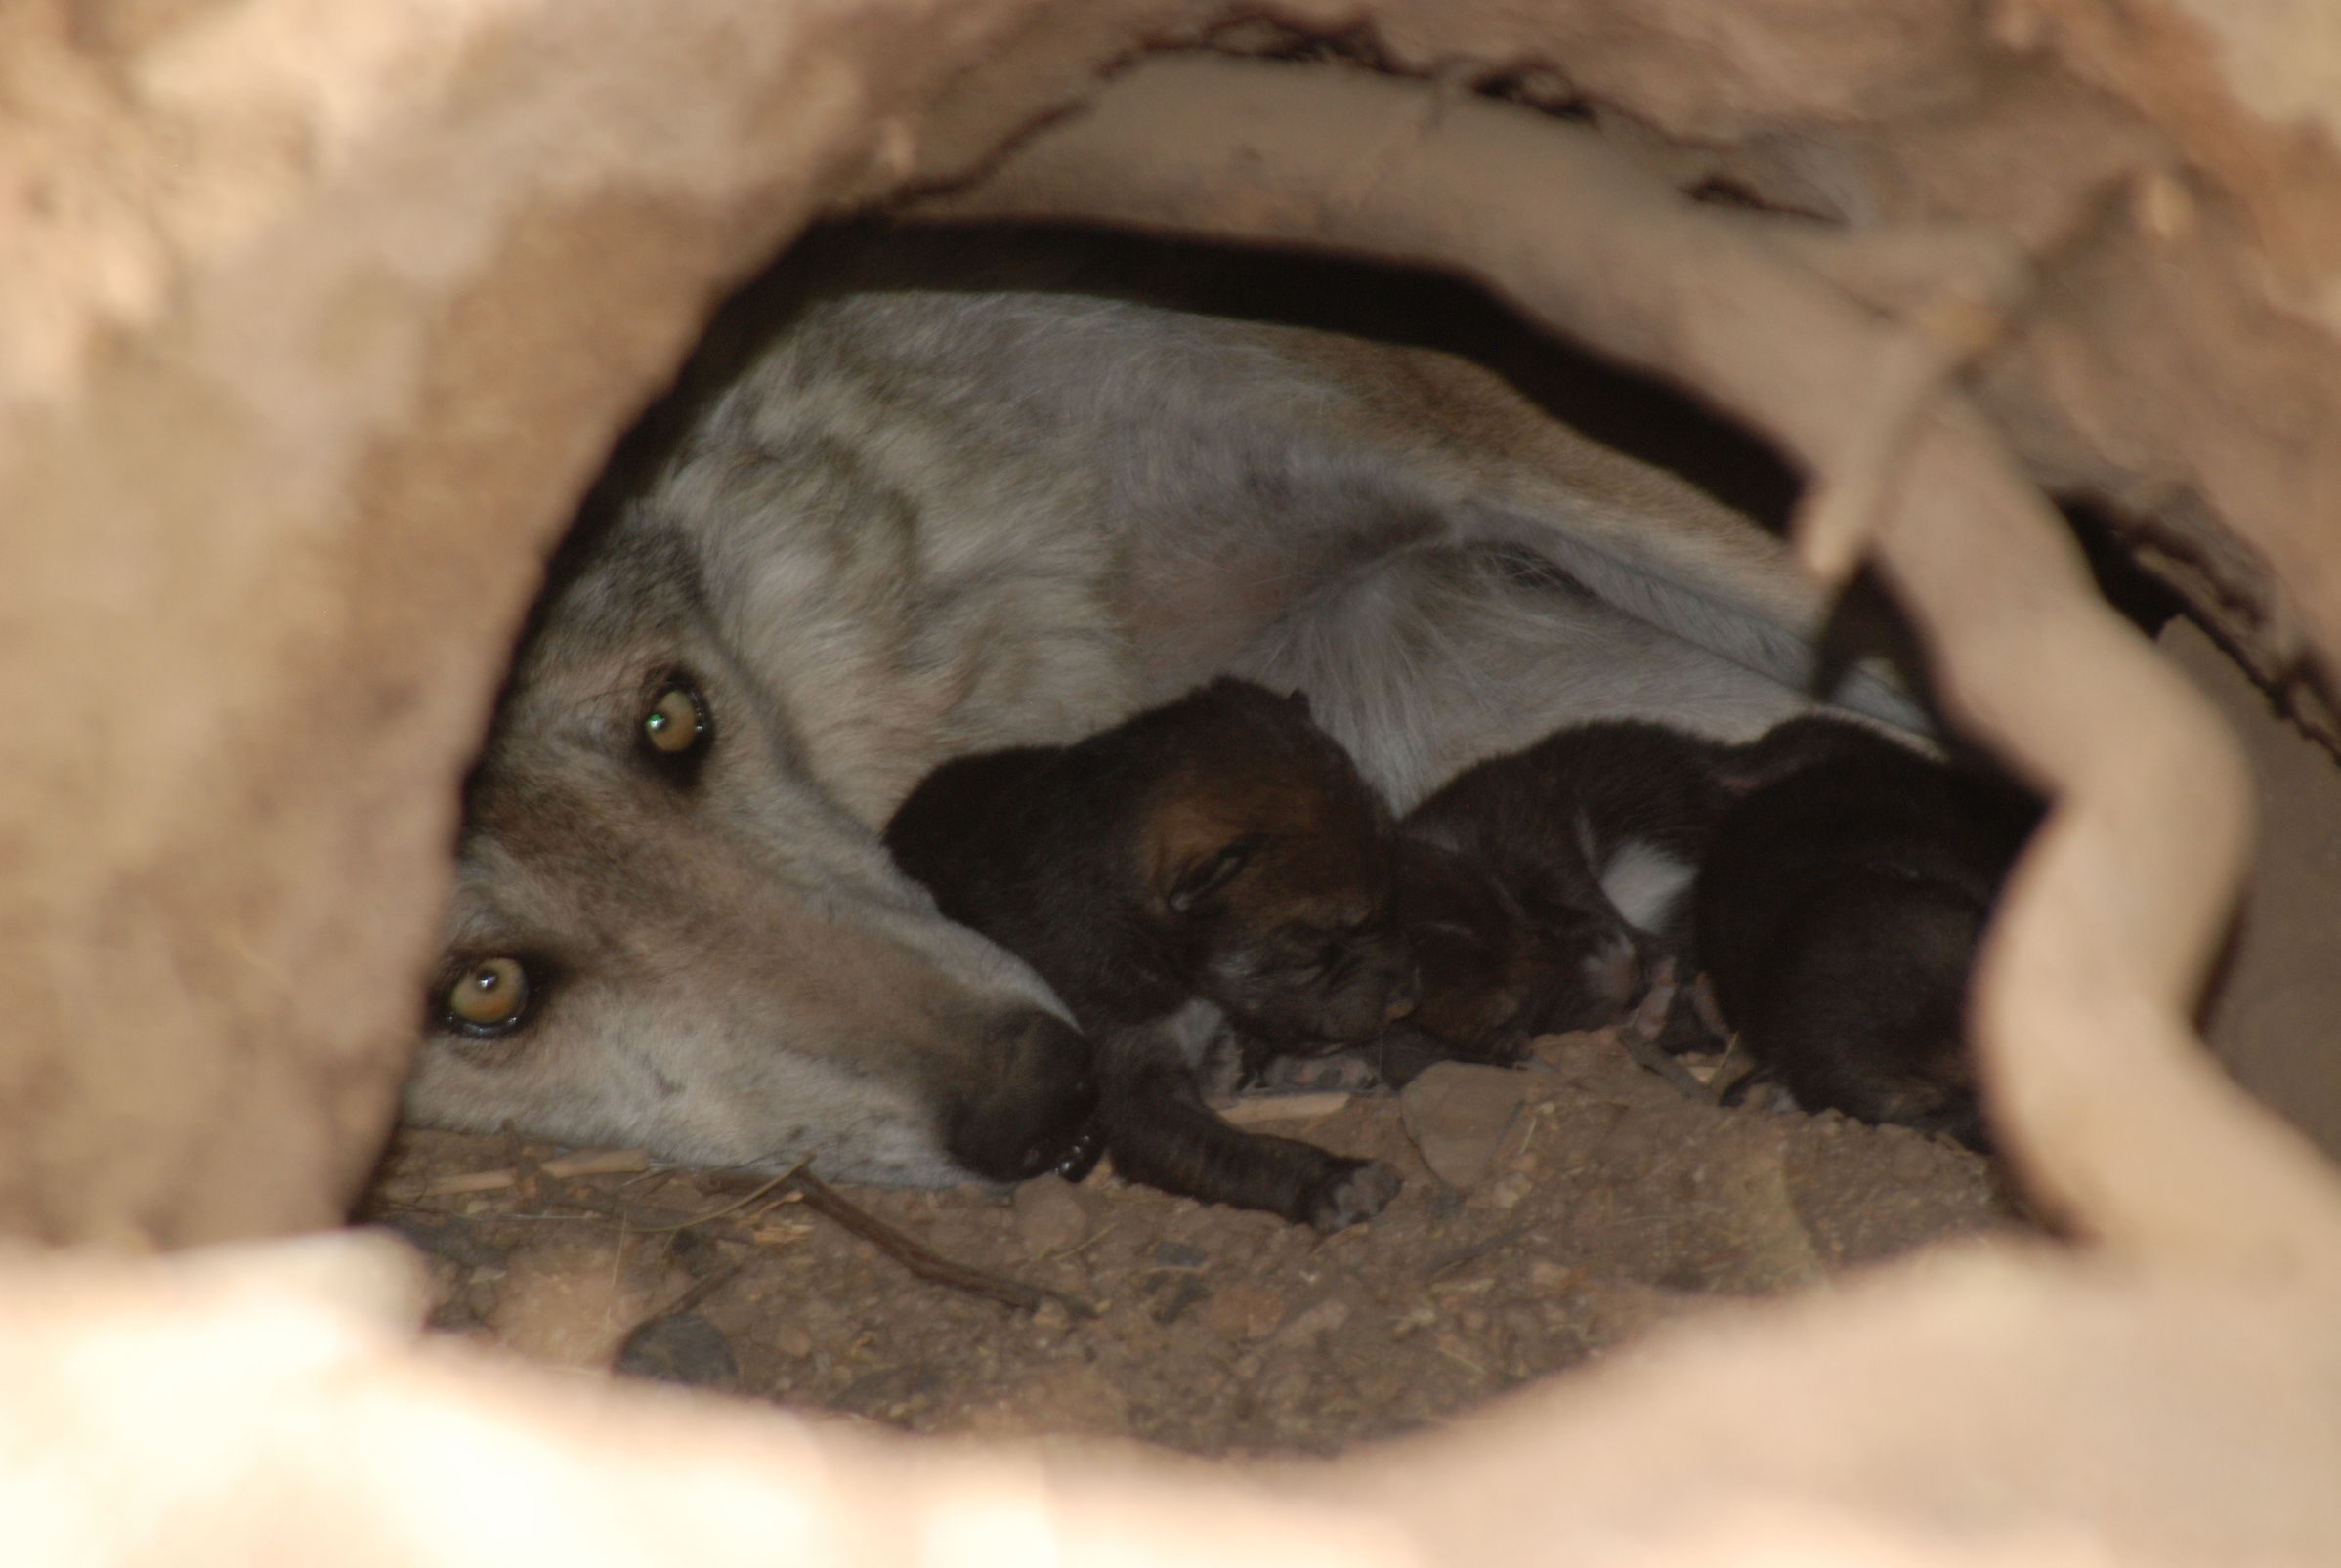Lobo: (371, 418, 1094, 1225)
